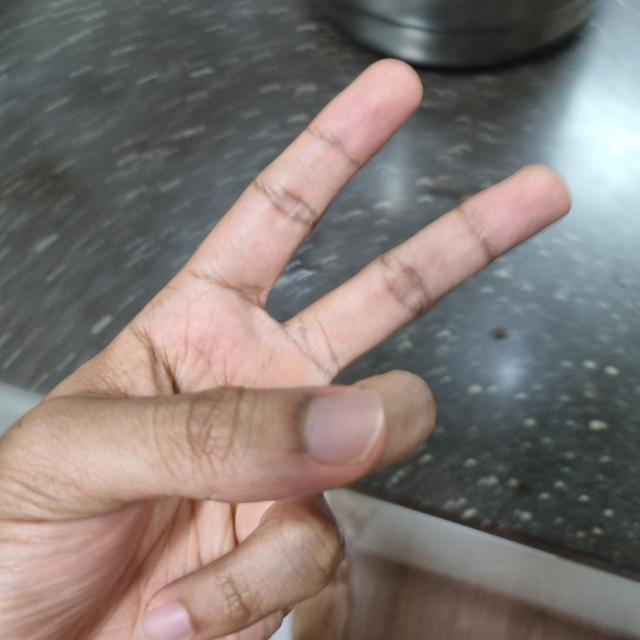Scissors: (1, 63, 564, 640)
